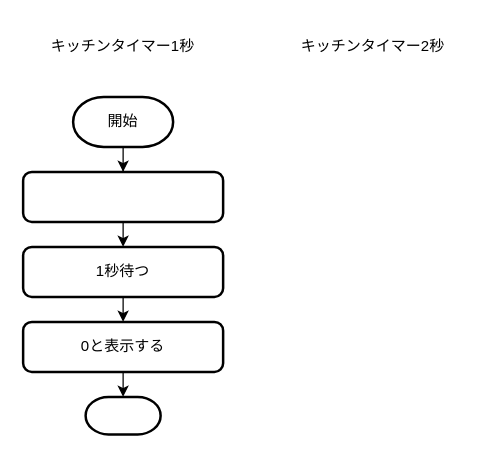
Image size: 494x456. Some labels were removed from this diagram. The centre of each missing label's shape, as x and y in pixels:
1と表示する: the point at 122,196
終了: the point at 122,415
